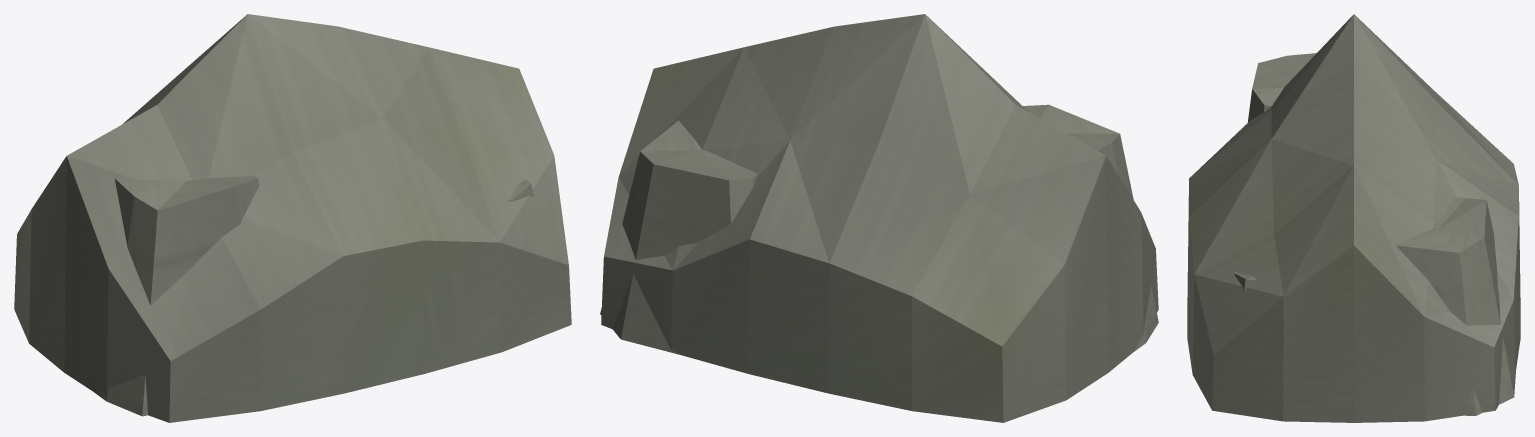
Rendered from cliff-granite-lod1.glb.
3 renders of one model, left to right at view 1: azimuth 30°, elevation 25°; view 2: azimuth 150°, elevation 25°; view 3: azimuth 270°, elevation 25°, orthographic. The views are drawn at different scales.
Bounding box in the file's own units: 0.5151 × 0.3382 × 0.3559.
Materials: 1 (1 with a texture image).
